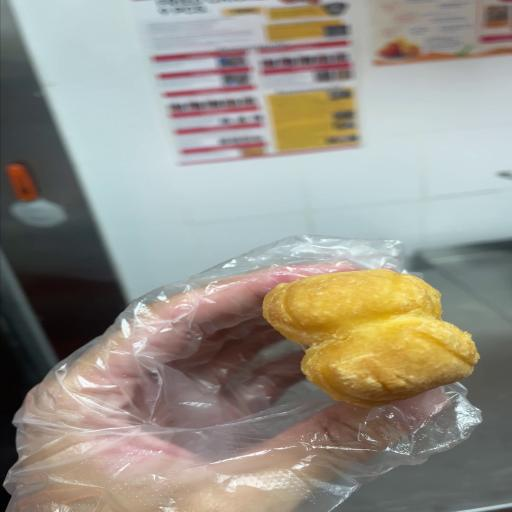brand_golden_good: (263, 269, 478, 407)
